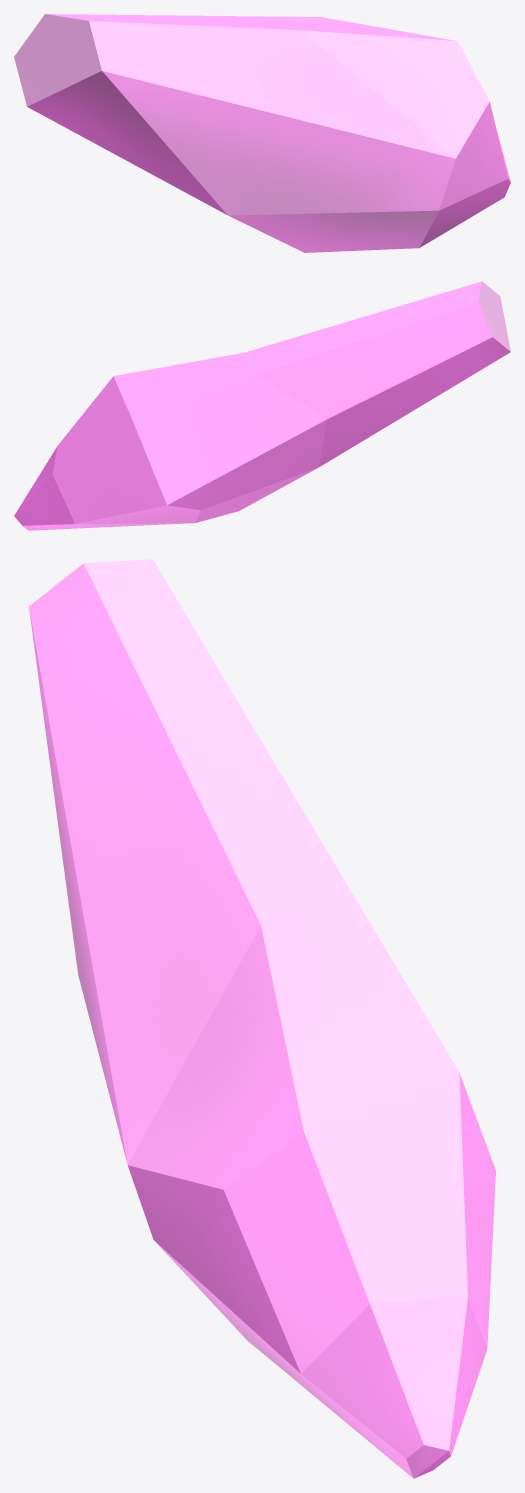
The model's file is Cristal_gem.006.fbx.
3 renders of one model, top to bottom at view 1: azimuth 30°, elevation 25°; view 2: azimuth 150°, elevation 25°; view 3: azimuth 270°, elevation 25°, orthographic. The views are drawn at different scales.
Visible parts, largest first — view 1: Crystal_gem.006; view 2: Crystal_gem.006; view 3: Crystal_gem.006.
Part boxes in pixels (x1=…): Crystal_gem.006: x1=14, y1=14, x2=510, y2=252; Crystal_gem.006: x1=14, y1=281, x2=510, y2=530; Crystal_gem.006: x1=29, y1=559, x2=495, y2=1478.
Size of the model in its own units: 46.43 by 29.5 by 22.69.
